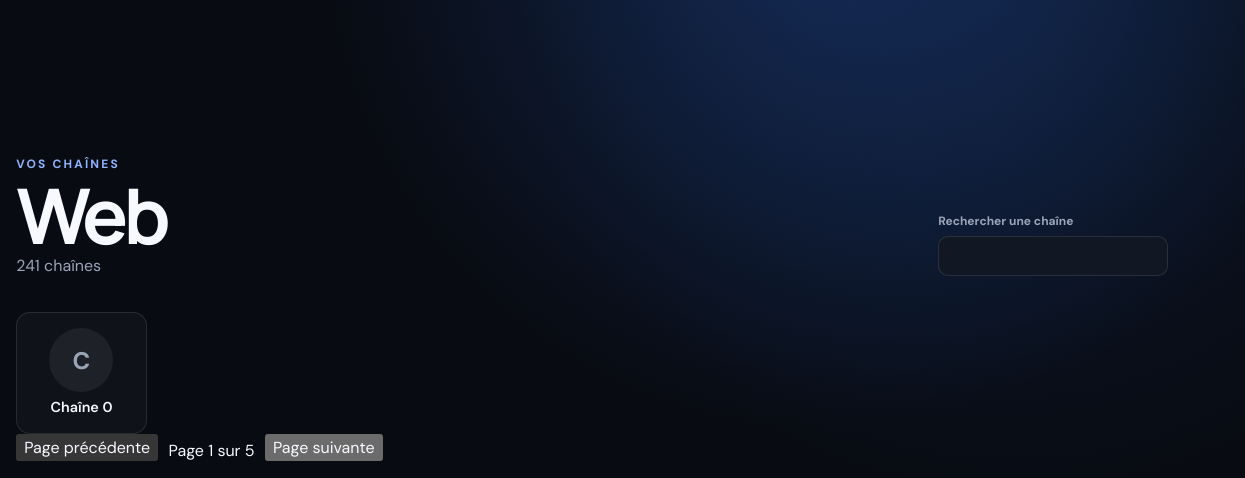
Test case: parcourt les pages au-delà de 200 chaînes et recherche sur tout le catalogue
expect the text "Chaîne 0" is shown: met, box [50,398,112,417]
Click the button "Page suivante". click: [324, 447]
box: [265,434,383,461]
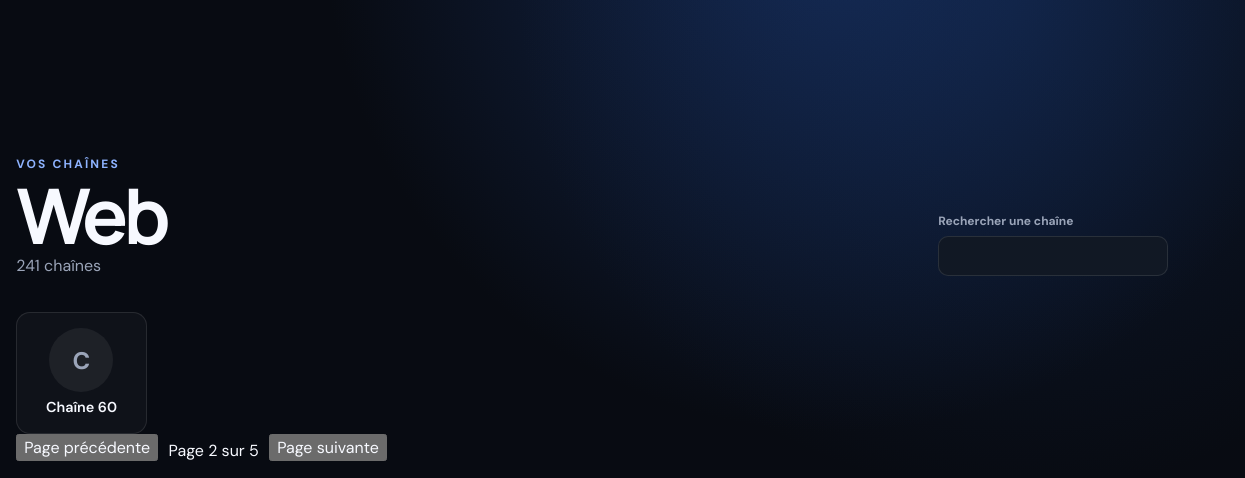
Click the button "Page suivante". click: [328, 447]
box: [269,434,387,461]
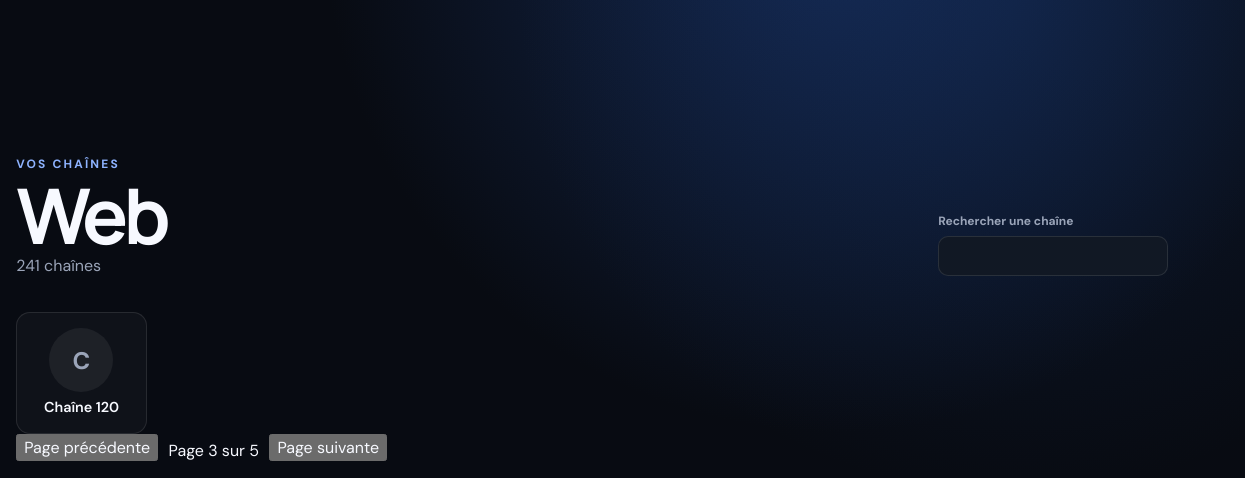
Click the button "Page suivante". click: [328, 447]
box: [269,434,387,461]
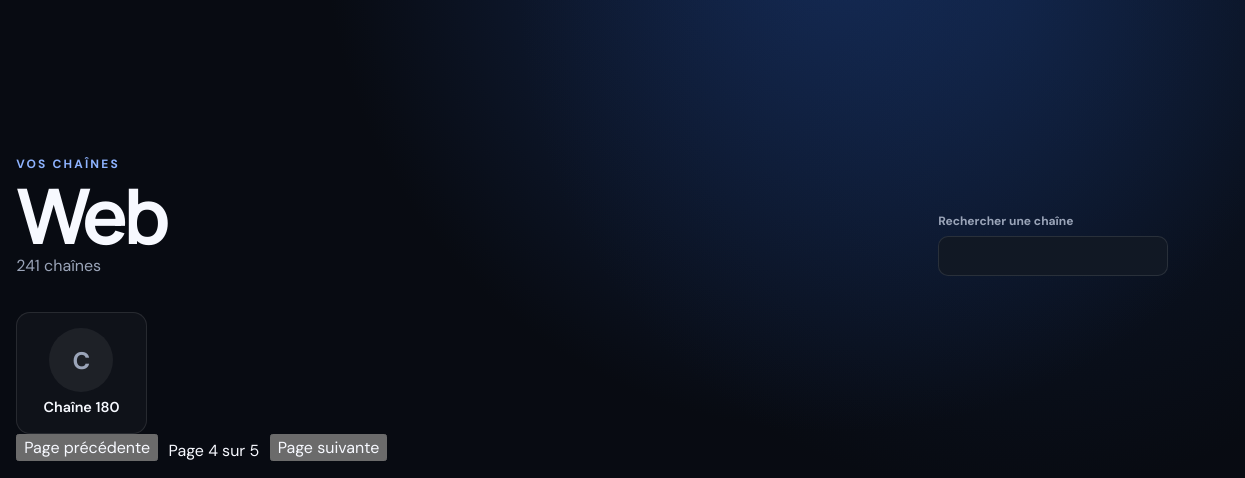
Click the button "Page suivante". click: [328, 447]
box: [270,434,387,461]
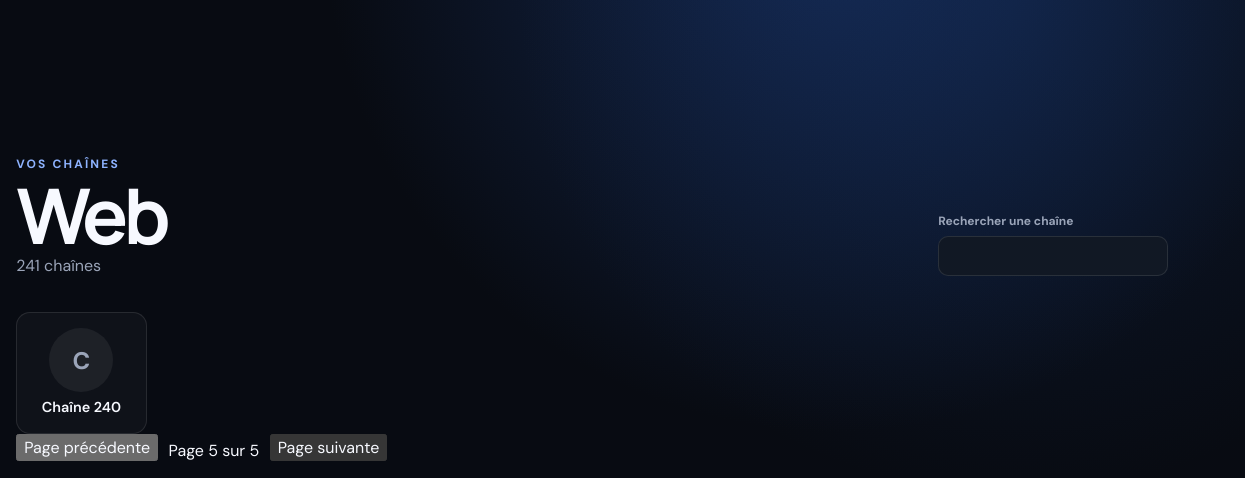
expect the button "Page suivante" is disabled: met, box [270,434,387,461]
Type "grenier" into the search field labelled "Rechercher une chaîne". click: [1053, 256]
box: [938,236,1168,276]
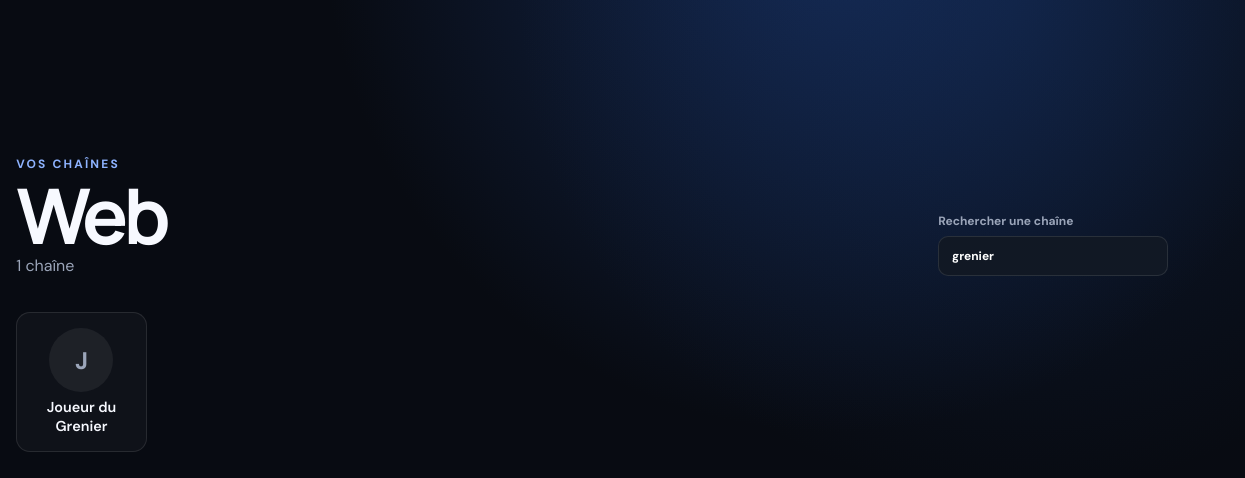
expect the text "Joueur du Grenier" is shown: met, box [47,398,116,435]
